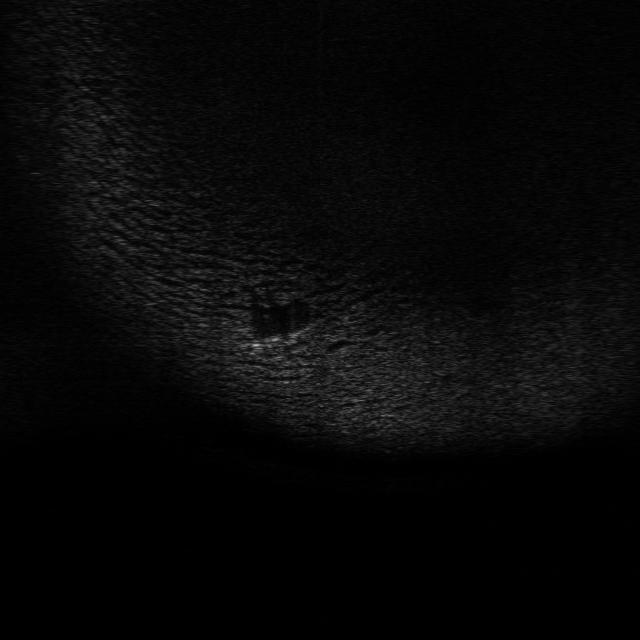plane: (242, 323, 306, 355)
